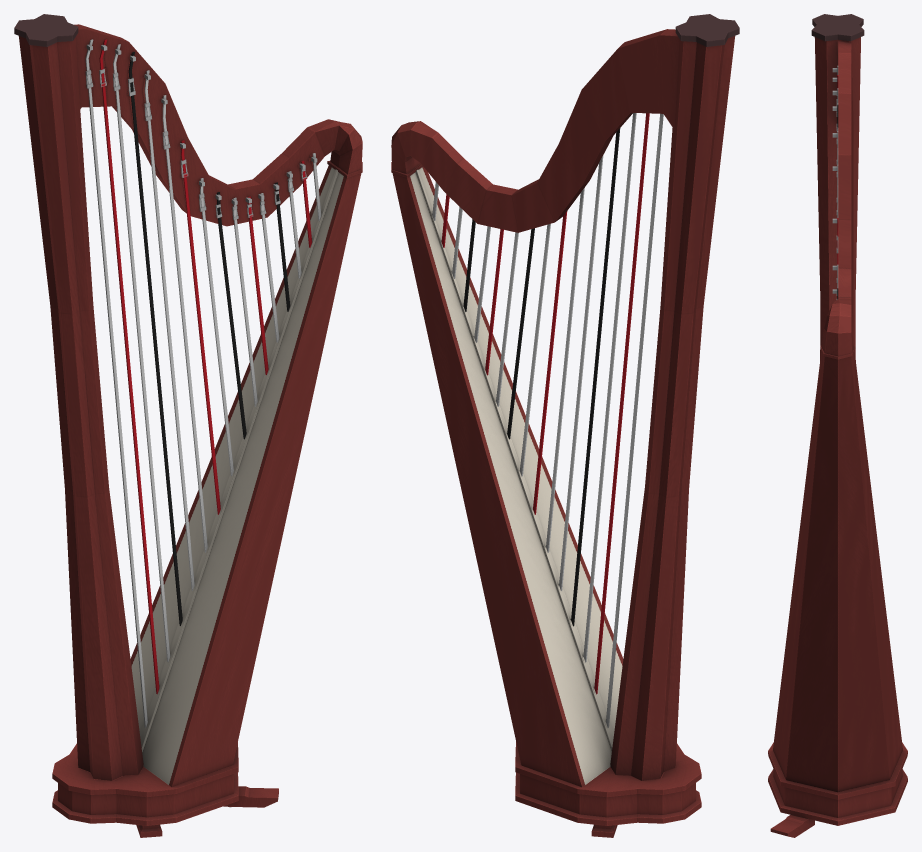
The picture shows the model from 3 angles, left to right: view 1: azimuth 30°, elevation 25°; view 2: azimuth 150°, elevation 25°; view 3: azimuth 270°, elevation 25°; orthographic projection. The views are drawn at different scales.
Visible parts, largest first — view 1: Harp_mesh; view 2: Harp_mesh; view 3: Harp_mesh.
Boxes of the visible parts, x1,y1,x2,y2 form: Harp_mesh: (14, 14, 362, 837); Harp_mesh: (391, 14, 739, 837); Harp_mesh: (768, 14, 907, 837).
Size of the model in its own units: 2.31 by 5.2 by 0.905.
Materials: 1 (1 with a texture image).
